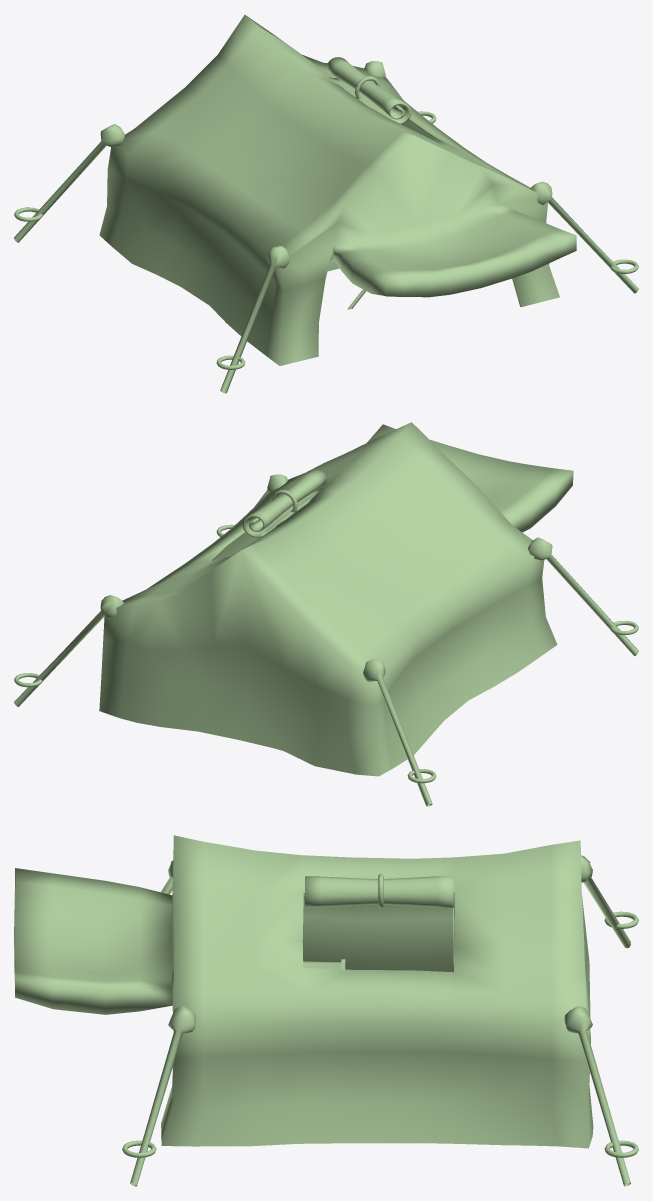
Rendered from camp.fbx.
3 renders of one model, top to bottom at view 1: azimuth 30°, elevation 25°; view 2: azimuth 150°, elevation 25°; view 3: azimuth 270°, elevation 25°, orthographic. The views are drawn at different scales.
Parts seen in each view (by area): view 1: camp1_low; view 2: camp1_low; view 3: camp1_low.
Part boxes in pixels (x1=…): camp1_low: x1=14, y1=14, x2=638, y2=393; camp1_low: x1=14, y1=422, x2=638, y2=806; camp1_low: x1=14, y1=835, x2=638, y2=1186.
Bounding box in the file's own units: 540 × 586 × 243.
